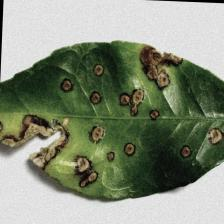greening: (5, 51, 220, 167)
